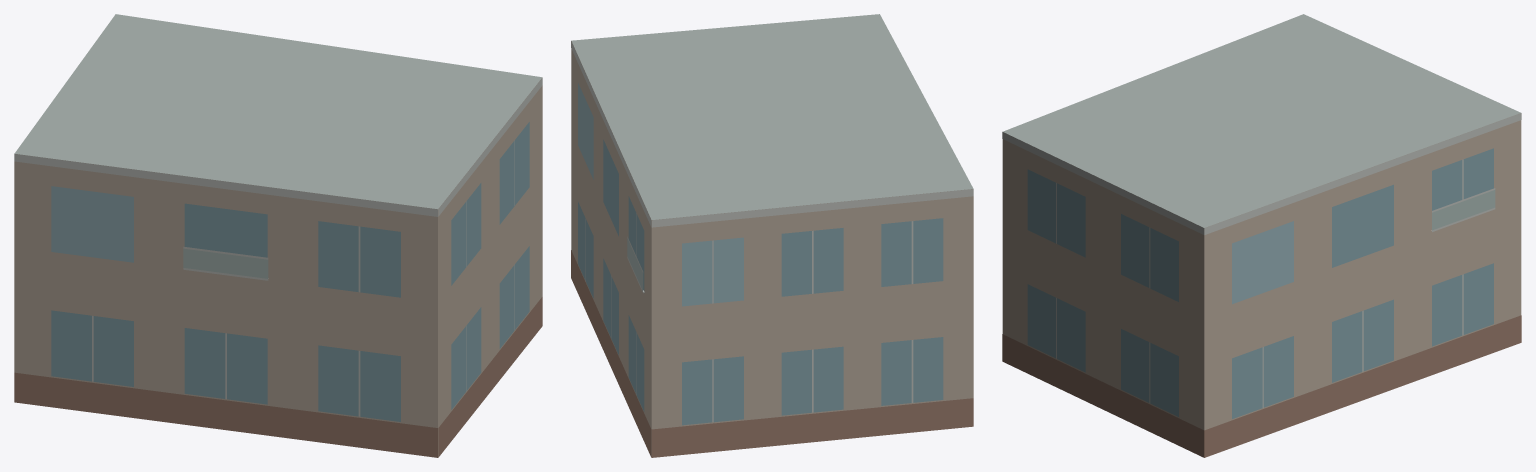
File: survey-upis-32626492.glb
The picture shows the model from 3 angles, left to right: view 1: azimuth 30°, elevation 25°; view 2: azimuth 150°, elevation 25°; view 3: azimuth 270°, elevation 25°; orthographic projection. The views are drawn at different scales.
Visible parts, largest first — view 1: survey-upis-32626492.tmp; view 2: survey-upis-32626492.tmp; view 3: survey-upis-32626492.tmp.
Part boxes in pixels (x1,y1,x2,y2): survey-upis-32626492.tmp: (14,14,542,457); survey-upis-32626492.tmp: (571,14,973,457); survey-upis-32626492.tmp: (1002,14,1521,457).
Size of the model in its own units: 15.59 by 7.8 by 15.97.
